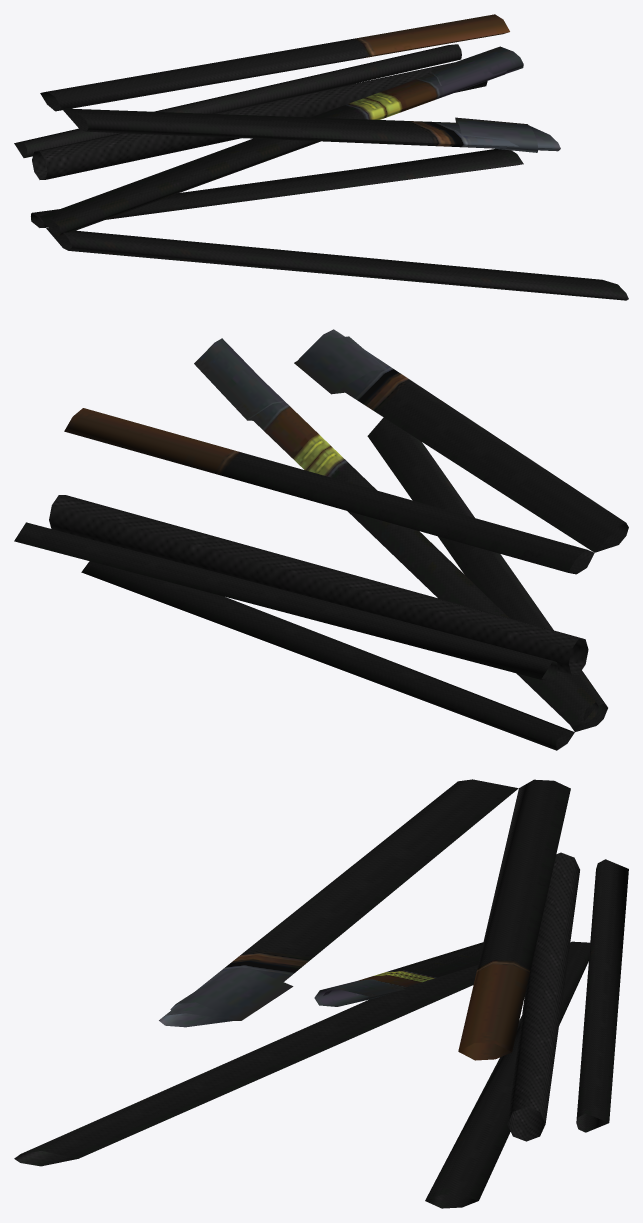
File: FerrariF2007_SuspRR.glb
3 renders of one model, top to bottom at view 1: azimuth 30°, elevation 25°; view 2: azimuth 150°, elevation 25°; view 3: azimuth 270°, elevation 25°, orthographic. The views are drawn at different scales.
Parts seen in each view (by area): view 1: fer_suspa_rr; view 2: fer_suspa_rr; view 3: fer_suspa_rr.
Boxes of the visible parts, x1,y1,x2,y2 form: fer_suspa_rr: (14, 14, 628, 300); fer_suspa_rr: (14, 329, 628, 750); fer_suspa_rr: (14, 779, 628, 1208).
Size of the model in its own units: 0.5315 by 0.1878 by 0.541.
1 material, 1 textured.
